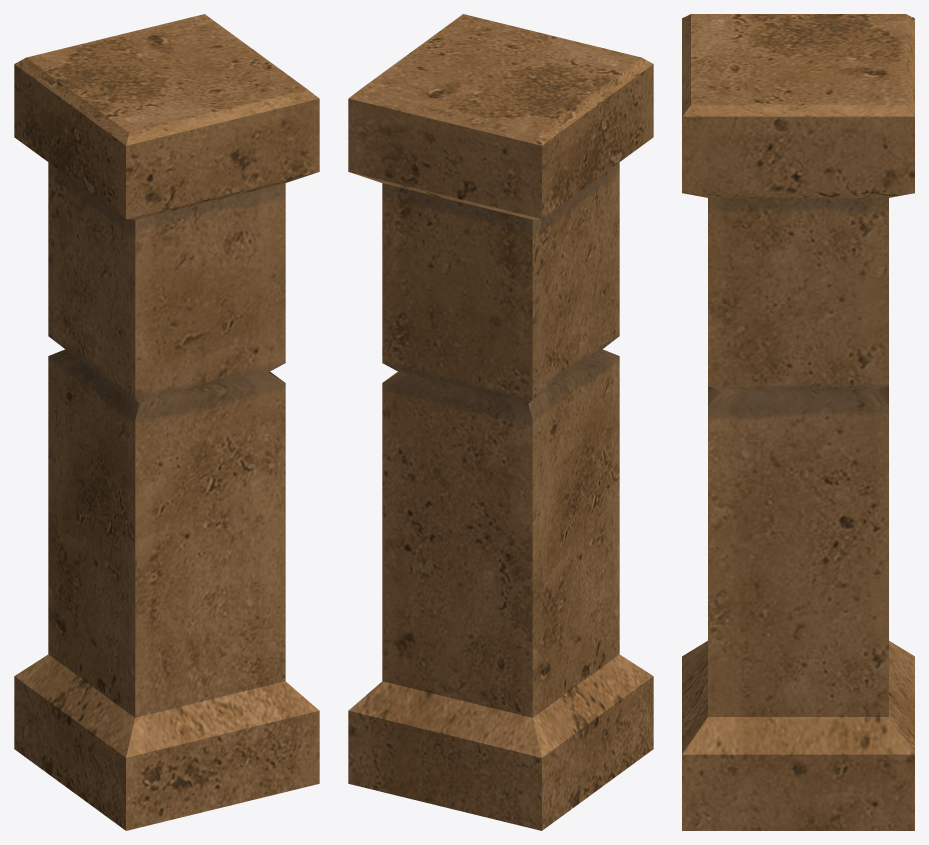
Rendered from col.fbx.
3 views of the same model, side by side, from view 1: azimuth 30°, elevation 25°; view 2: azimuth 150°, elevation 25°; view 3: azimuth 270°, elevation 25° (orthographic). The views are drawn at different scales.
Visible parts, largest first — view 1: pCube5; view 2: pCube5; view 3: pCube5.
Part boxes in pixels (<box>): pCube5: <box>14,14,319,830</box>; pCube5: <box>348,14,653,830</box>; pCube5: <box>682,14,914,830</box>.
Bounding box in the file's own units: 1.3 × 4.45 × 1.3.
